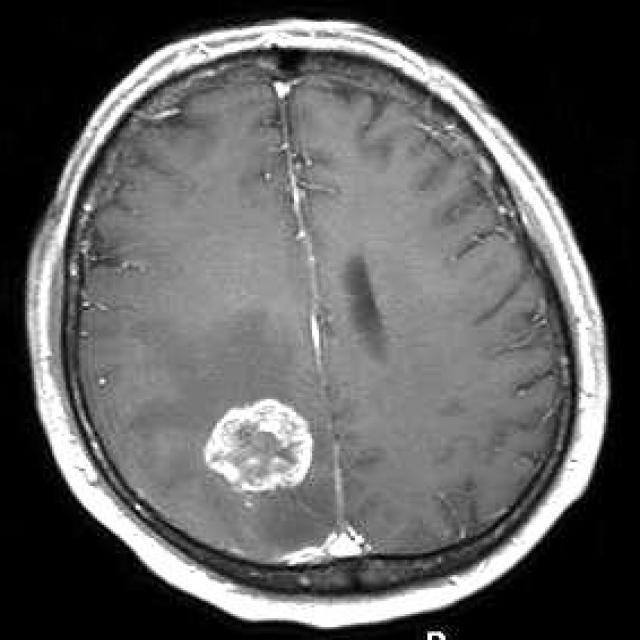tumor: (204, 399, 310, 497)
